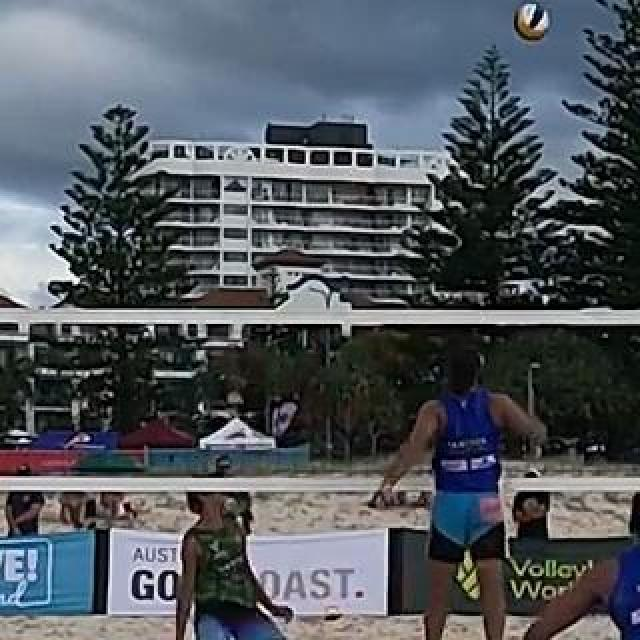volleyball: (512, 5, 548, 41), (320, 603, 344, 625)
